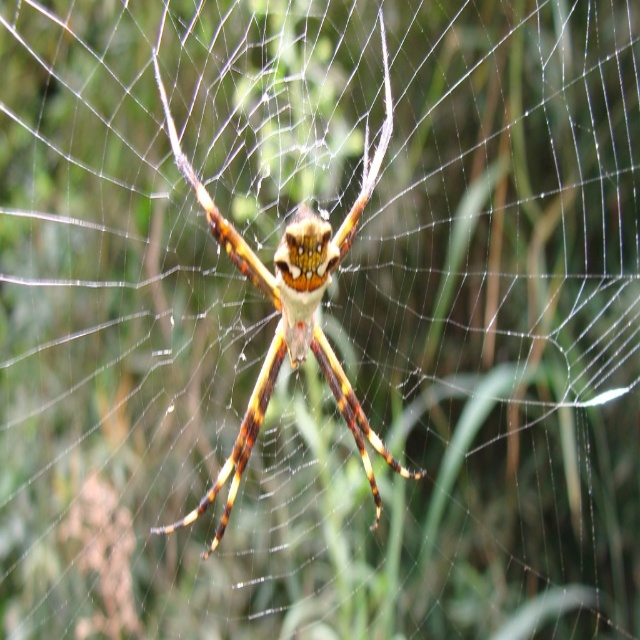Spider: (151, 9, 426, 560)
